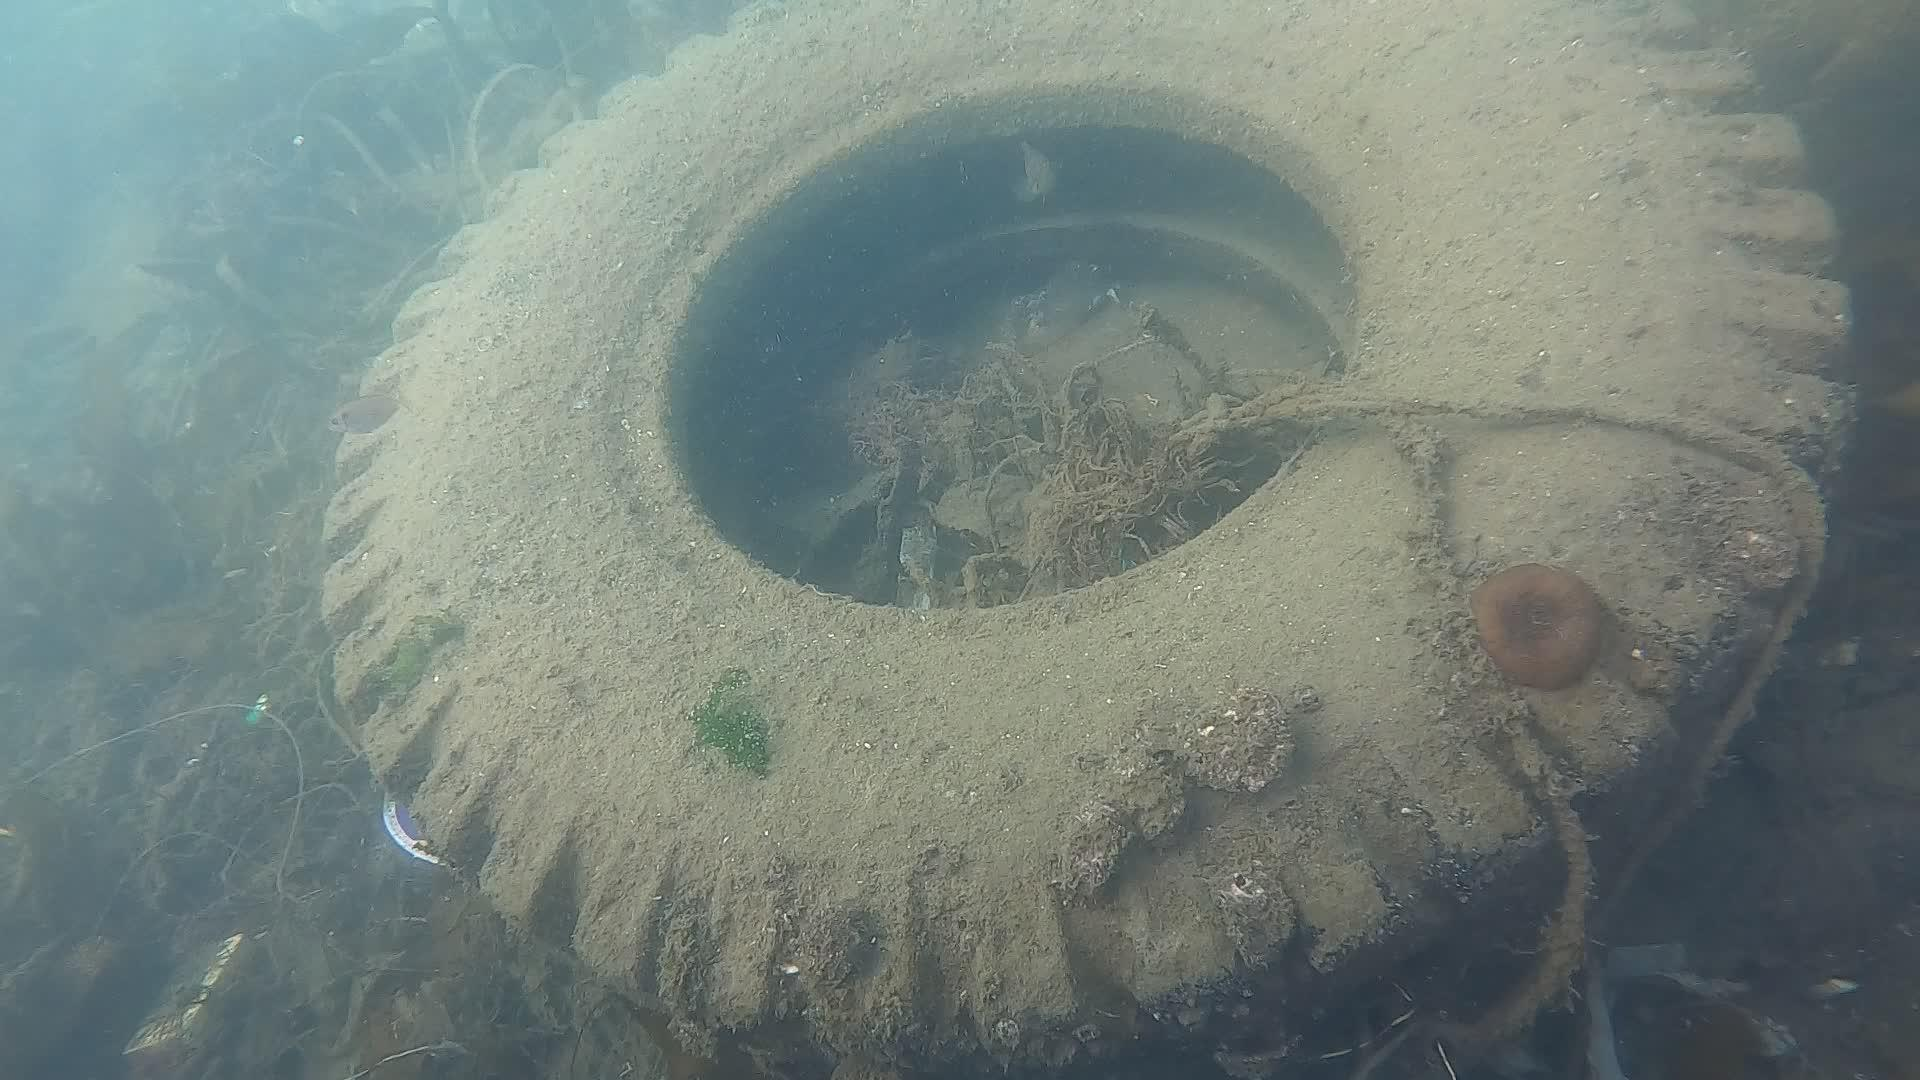bundle of ropes: (1199, 376, 1836, 1060)
tire: (320, 0, 1853, 1077)
